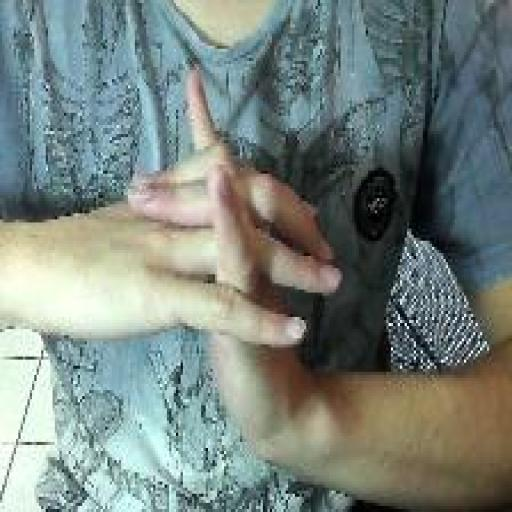Ushi -ox-: (125, 65, 344, 471)
